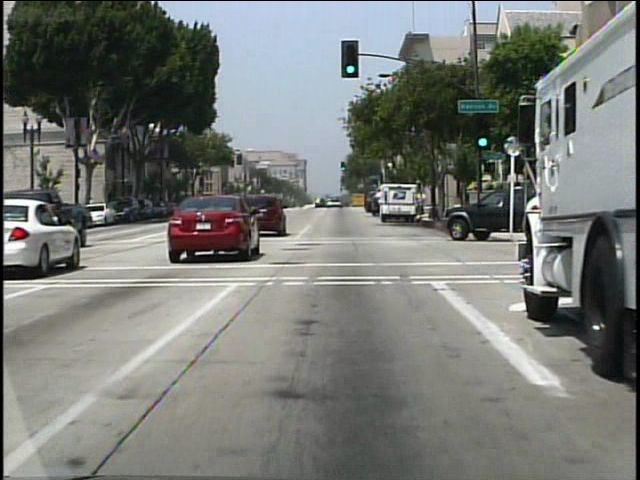person: (415, 188, 427, 221)
